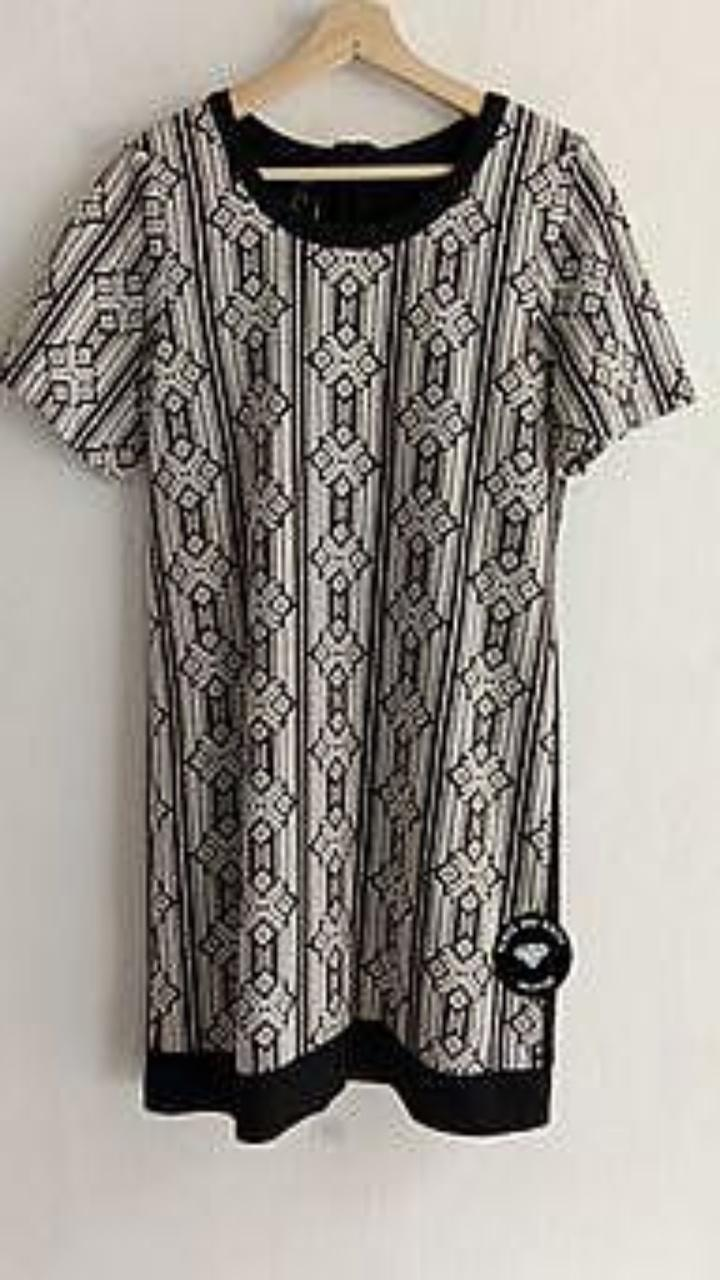T-Shirt: (0, 88, 694, 1141)
